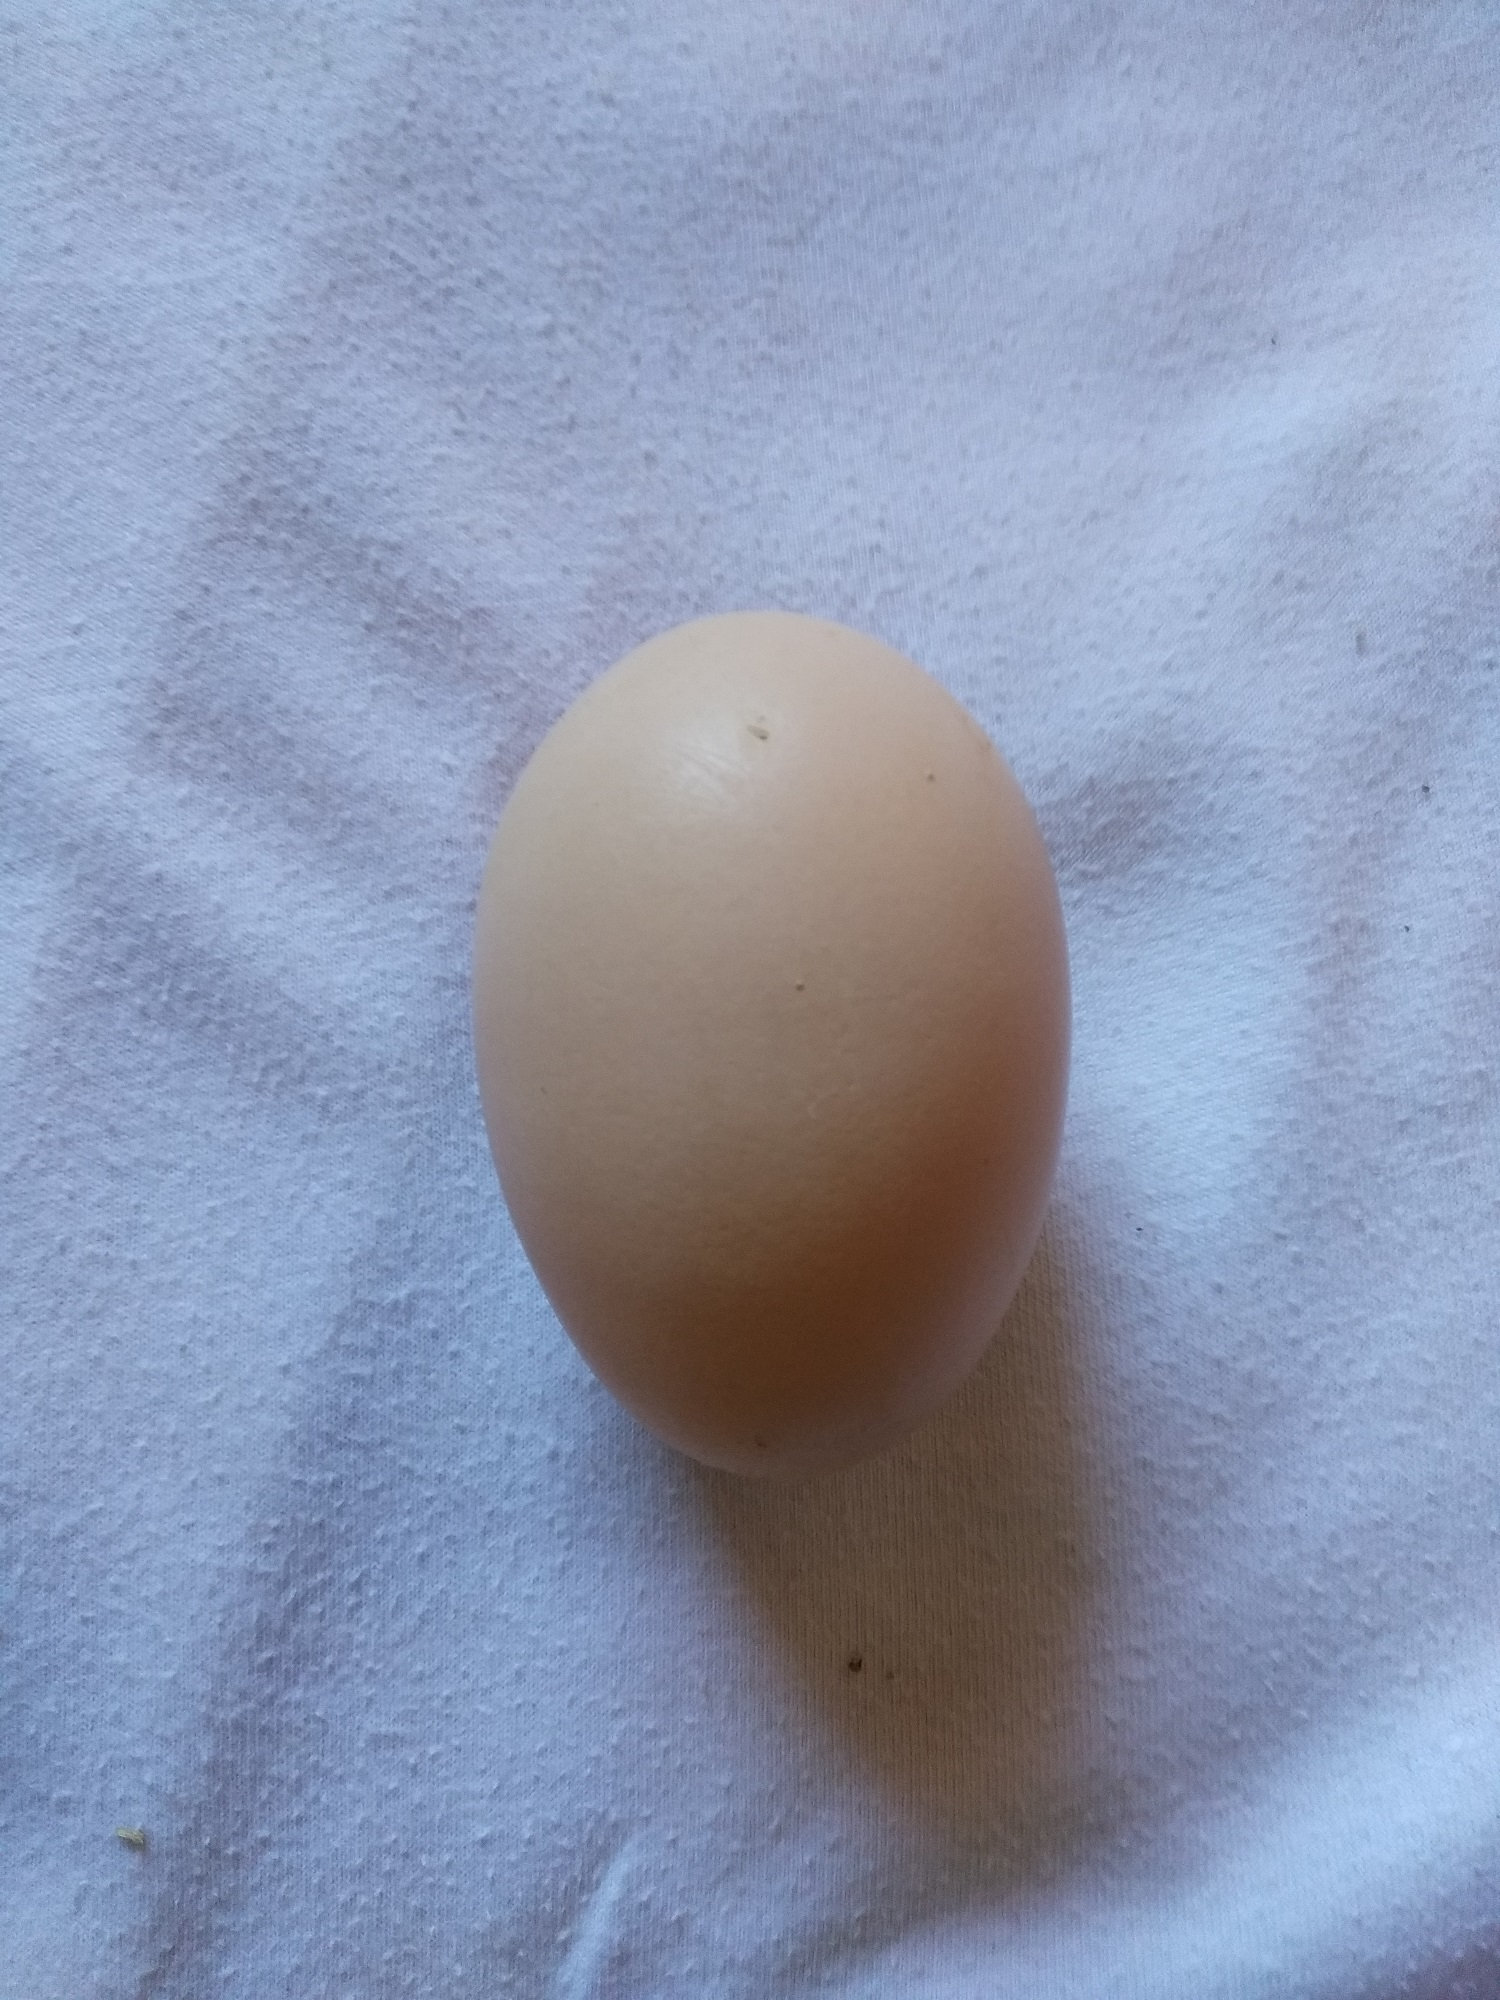Male: (463, 600, 1082, 1491)
